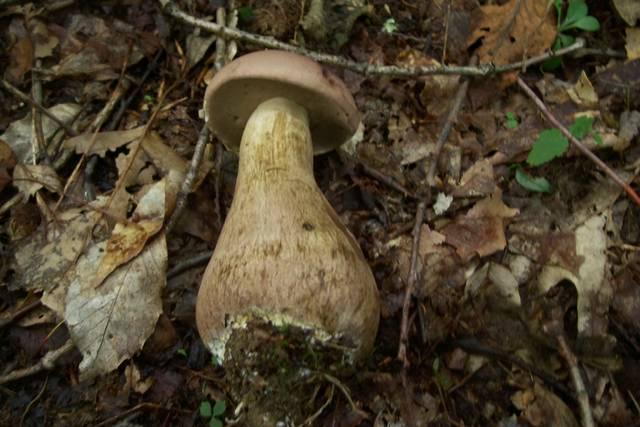poisonous_mushroom: (183, 45, 388, 423)
